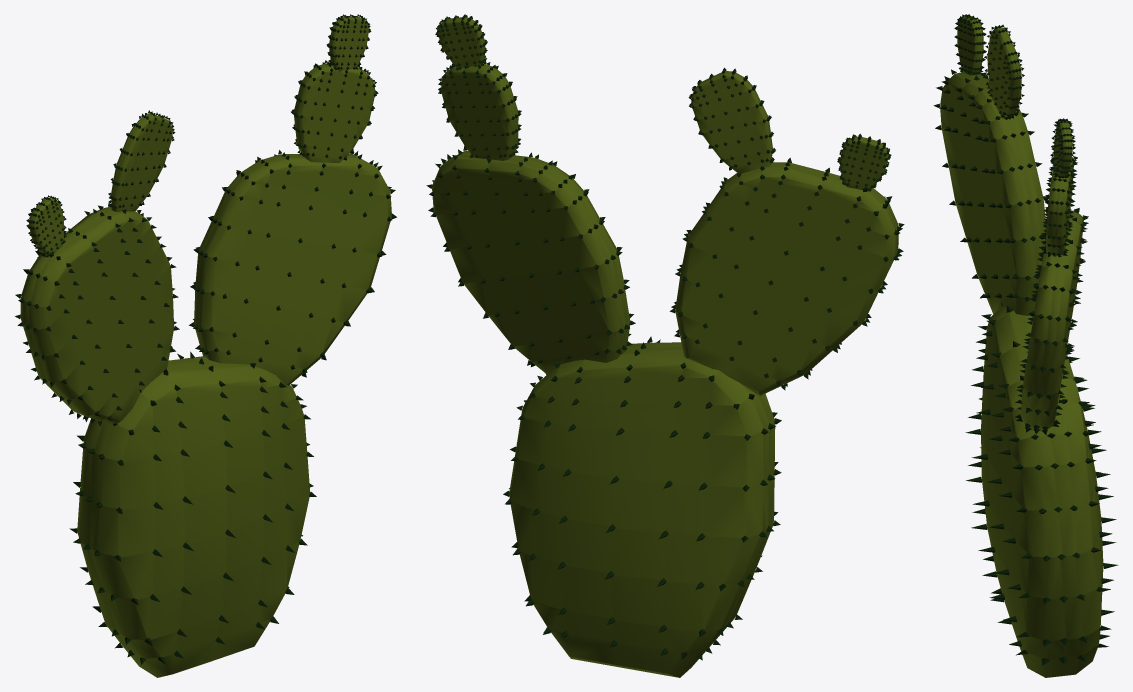
The model's file is MediumNopal.FBX.
The picture shows the model from 3 angles, left to right: view 1: azimuth 30°, elevation 25°; view 2: azimuth 150°, elevation 25°; view 3: azimuth 270°, elevation 25°; orthographic projection. The views are drawn at different scales.
Visible parts, largest first — view 1: MediumNopal; view 2: MediumNopal; view 3: MediumNopal.
Part boxes in pixels (x1,y1,x2,y2): MediumNopal: (15,14,396,677); MediumNopal: (426,14,904,677); MediumNopal: (933,14,1118,677).
Bounding box in the file's own units: 36.13 × 49.77 × 13.72.
